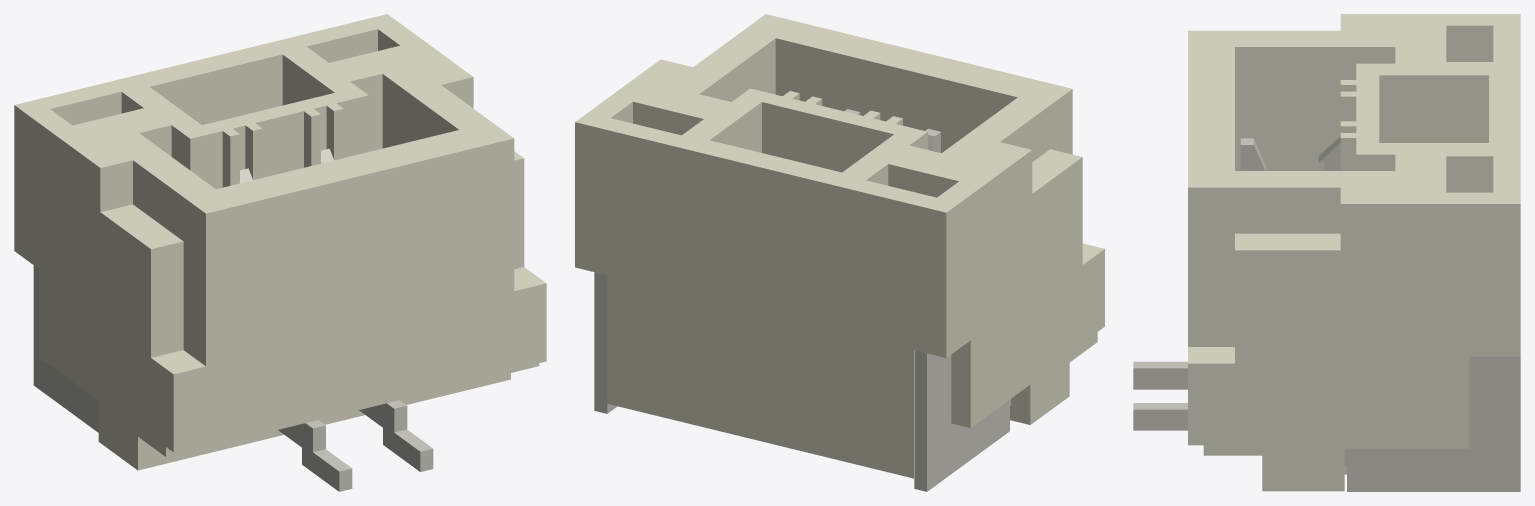
File: kc-jst_gh_bm02b-ghs-tbt_1x02-1mp_p1.25mm_vertical.glb
The picture shows the model from 3 angles, left to right: view 1: azimuth 30°, elevation 25°; view 2: azimuth 150°, elevation 25°; view 3: azimuth 270°, elevation 25°; orthographic projection. The views are drawn at different scales.
Visible parts, largest first — view 1: 0.75_0.75_0.5833333333333334_0, 0.6666666666666666_0.6666666666666666_0.5833333333333334_0.8; view 2: 0.75_0.75_0.5833333333333334_0, 0.6666666666666666_0.6666666666666666_0.5833333333333334_0.8; view 3: 0.75_0.75_0.5833333333333334_0, 0.6666666666666666_0.6666666666666666_0.5833333333333334_0.8.
Part boxes in pixels (box(x1,y1,x2,y2)): 0.75_0.75_0.5833333333333334_0: box(14, 14, 546, 470); 0.6666666666666666_0.6666666666666666_0.5833333333333334_0.8: box(33, 148, 433, 491); 0.75_0.75_0.5833333333333334_0: box(575, 14, 1104, 478); 0.6666666666666666_0.6666666666666666_0.5833333333333334_0.8: box(594, 109, 1010, 491); 0.75_0.75_0.5833333333333334_0: box(1188, 14, 1520, 491); 0.6666666666666666_0.6666666666666666_0.5833333333333334_0.8: box(1133, 136, 1520, 491).
Bounding box in the file's own units: 0.575 × 0.42 × 0.4951.
